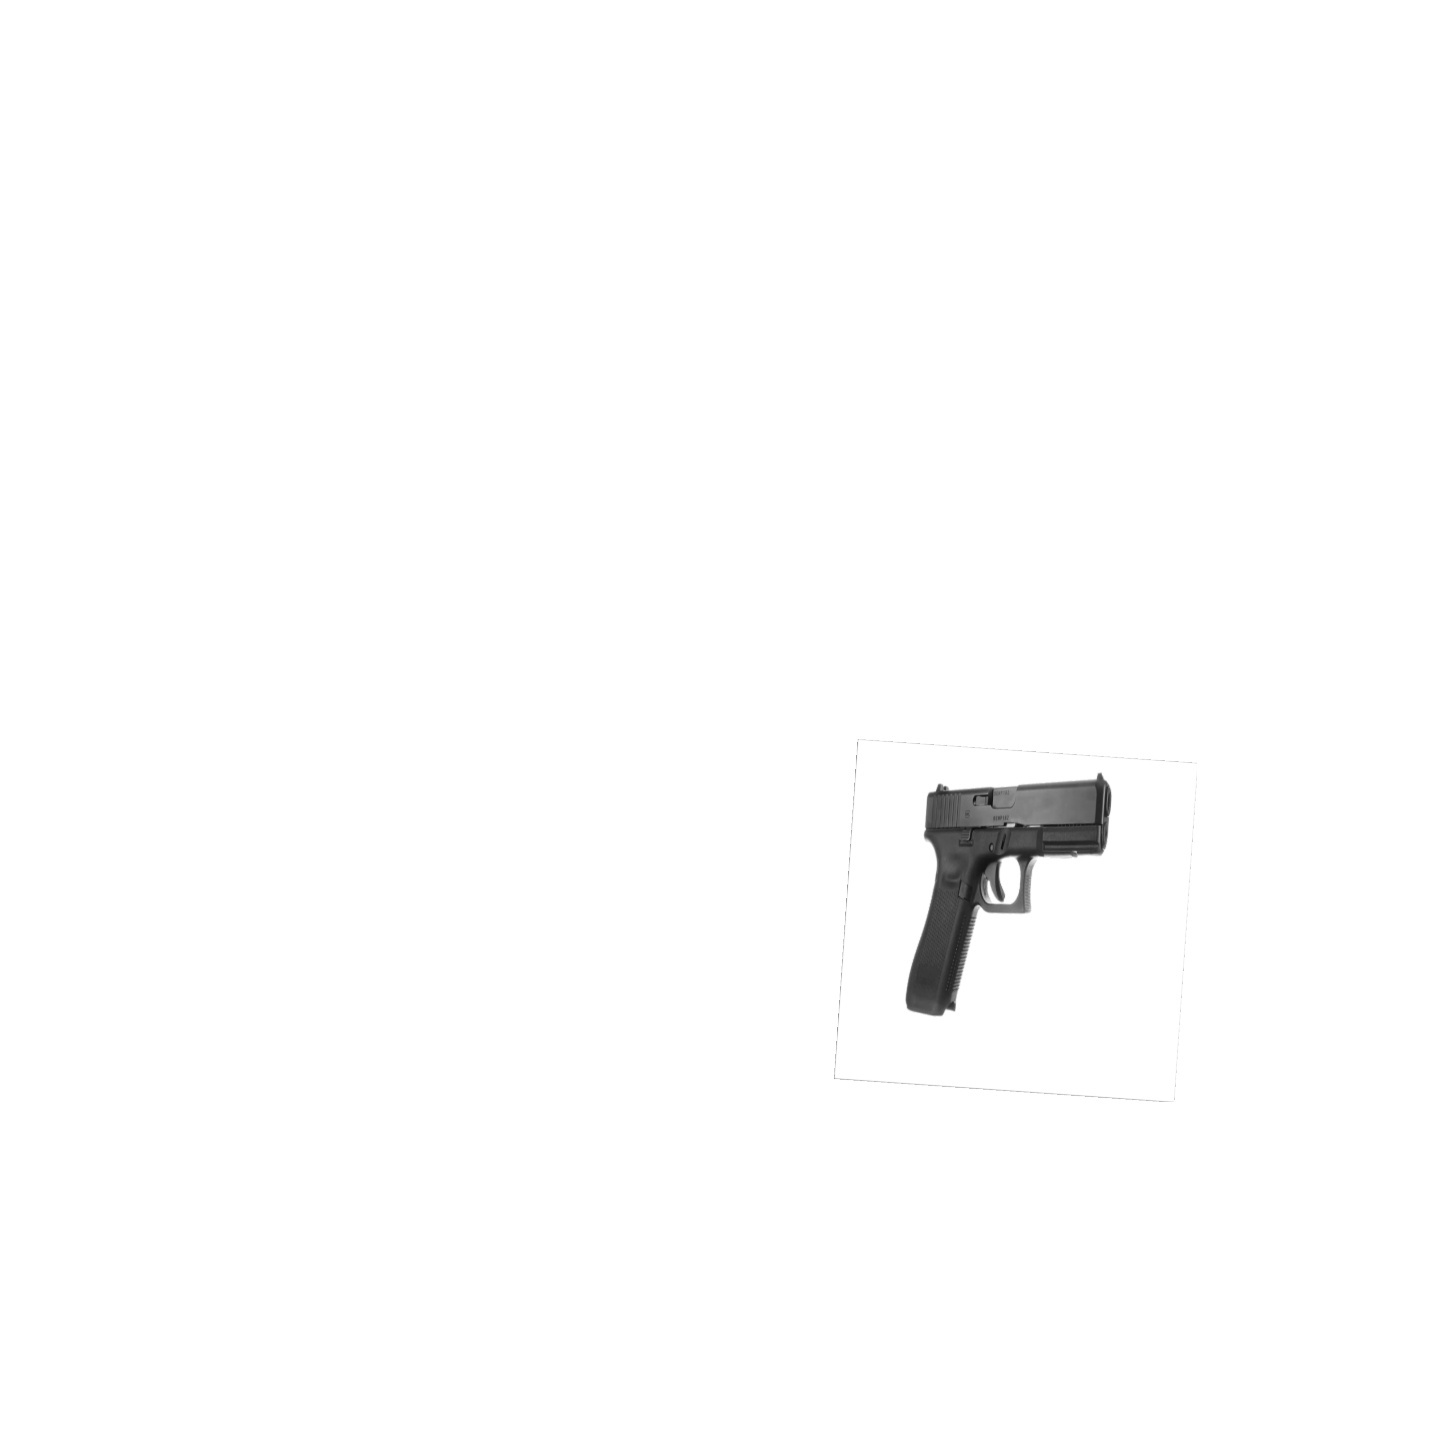gun: (897, 766, 1117, 1023)
